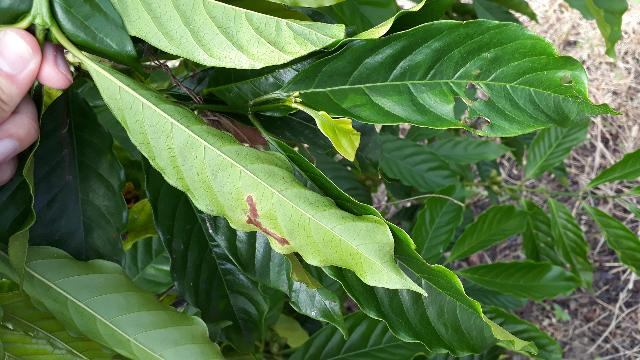red_spider_mite: (81, 54, 432, 299)
